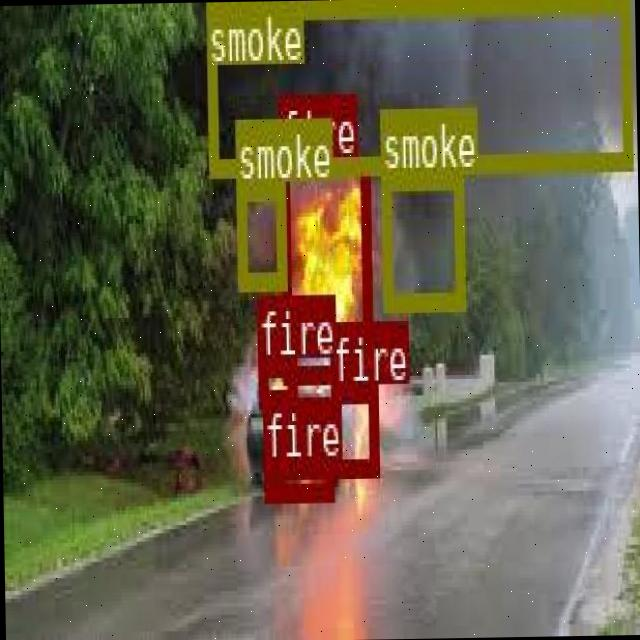fire: (278, 153, 371, 380), (330, 381, 376, 472), (262, 457, 331, 498), (256, 356, 296, 406)
smoke: (204, 0, 630, 175), (379, 168, 462, 308), (234, 178, 286, 286)
